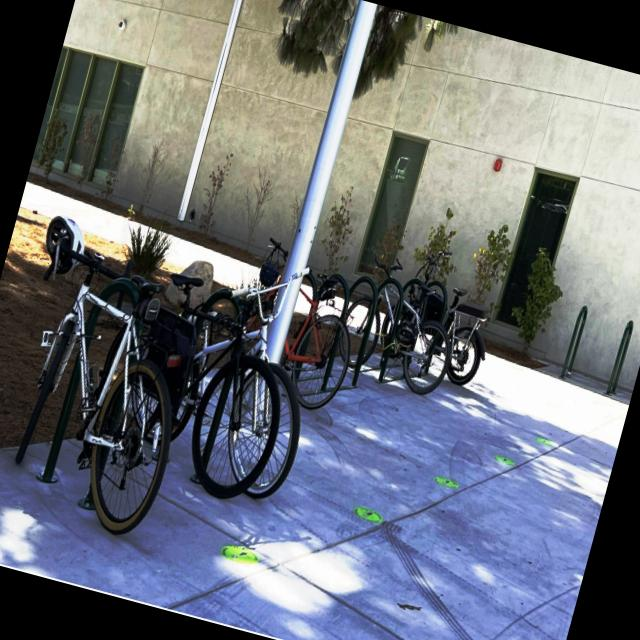bike: (0, 212, 221, 542), (110, 230, 346, 506), (78, 266, 310, 509), (218, 234, 374, 415), (330, 248, 470, 402), (372, 240, 510, 390)
